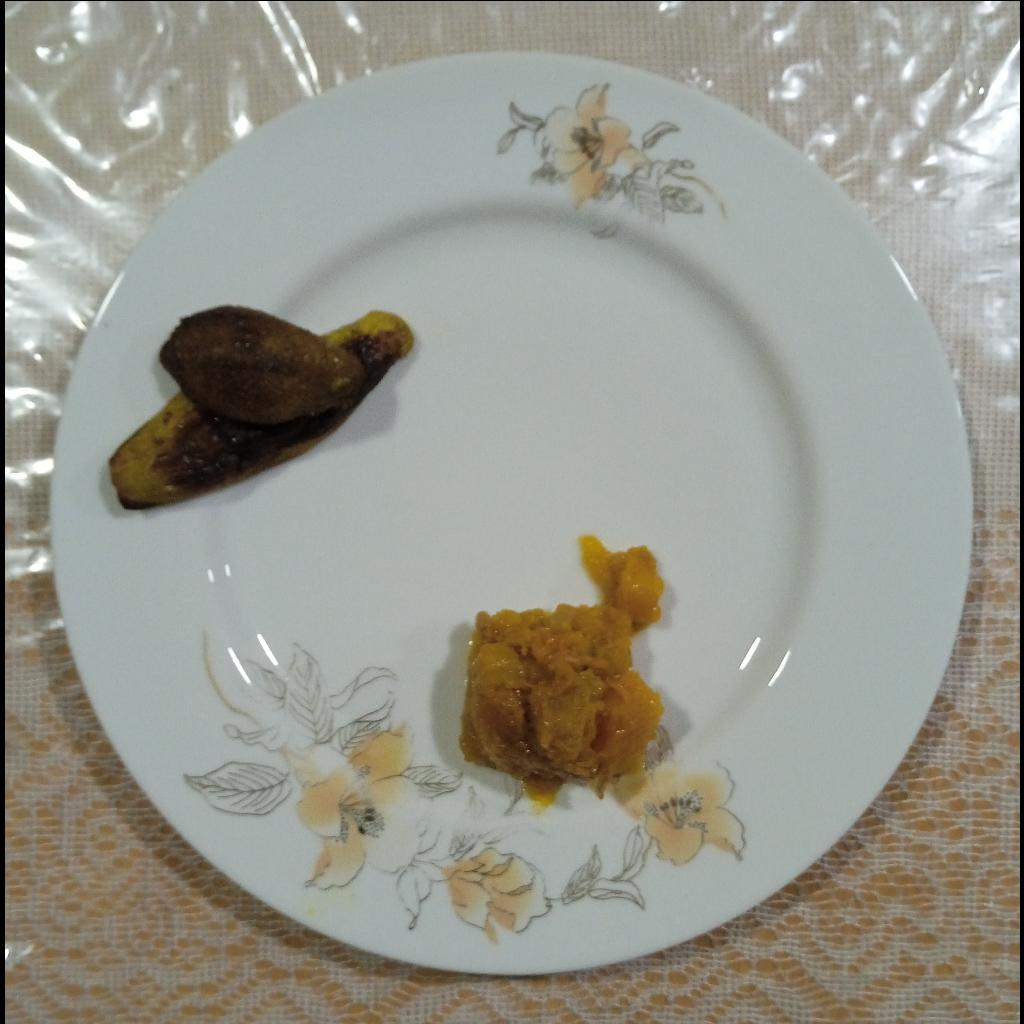kumra-vaji: (457, 534, 665, 799)
potol: (109, 304, 415, 509)
